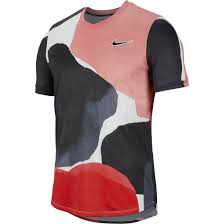nike: (109, 33, 138, 49)
